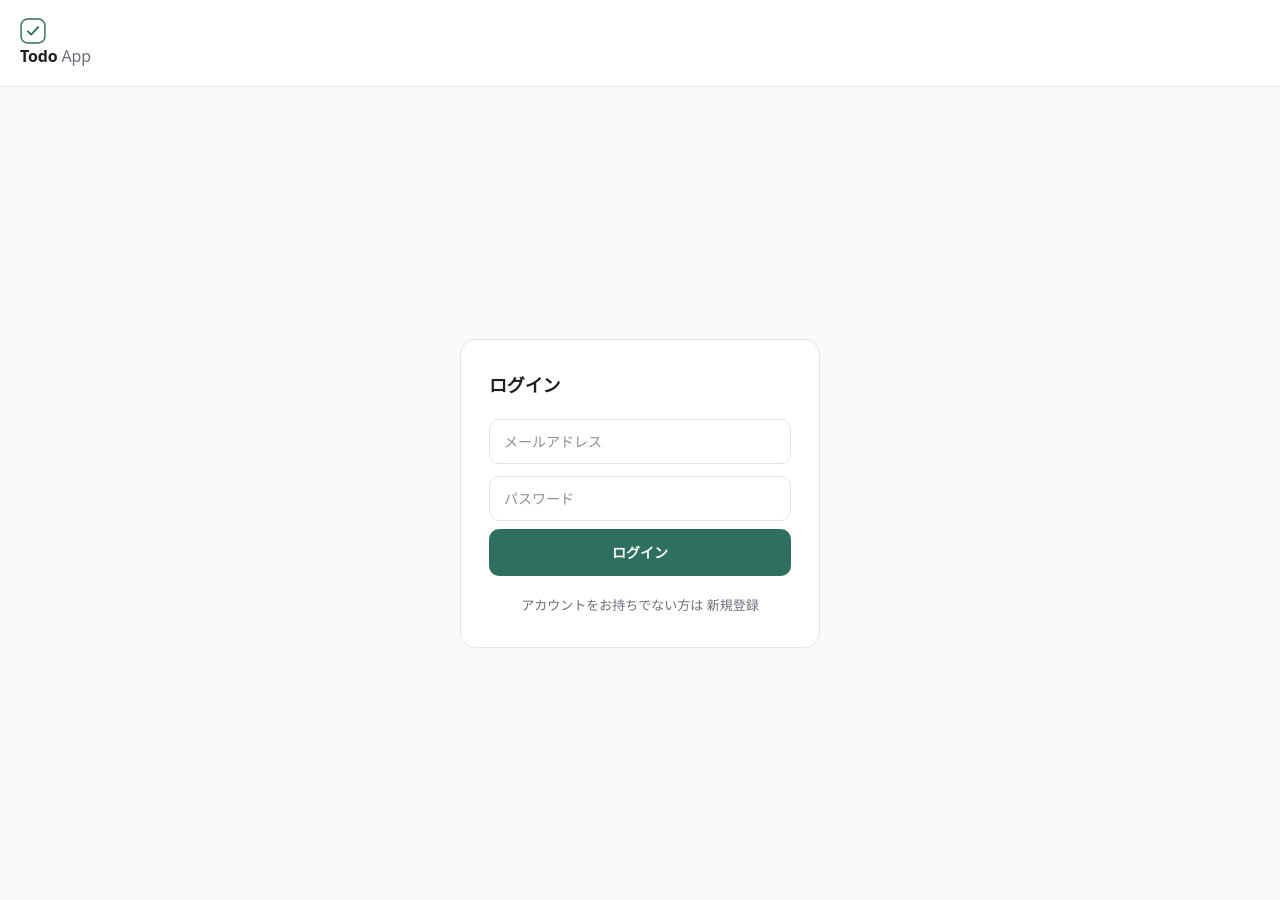
LoginForm › login mode › メールアドレスが空で送信すると "メールアドレスを入力してください!" が表示される
Click the button "ログイン". click: (640, 552)
box: [489,529,791,576]
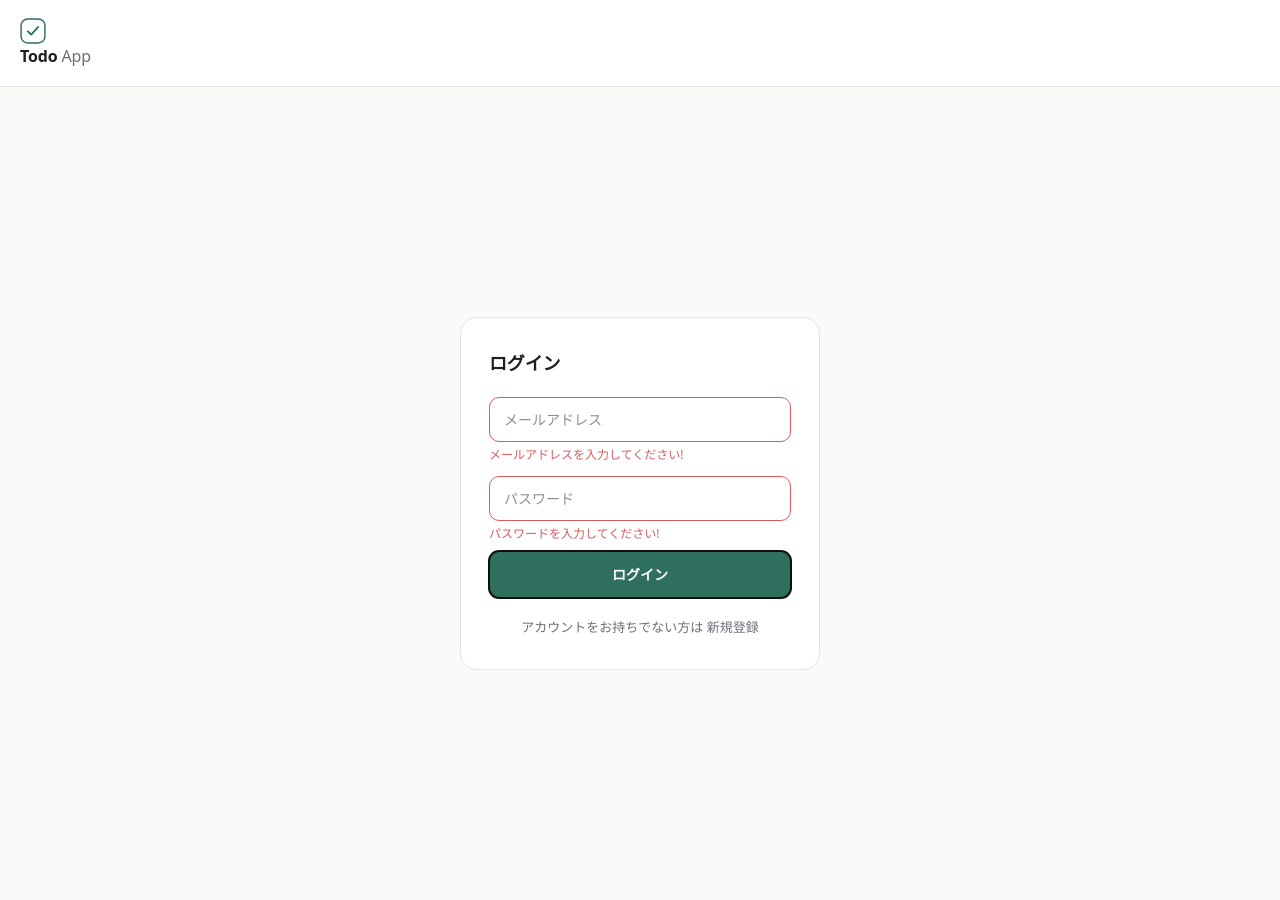
expect the text "メールアドレスを入力してください!" is shown: met, box [489,446,684,463]
